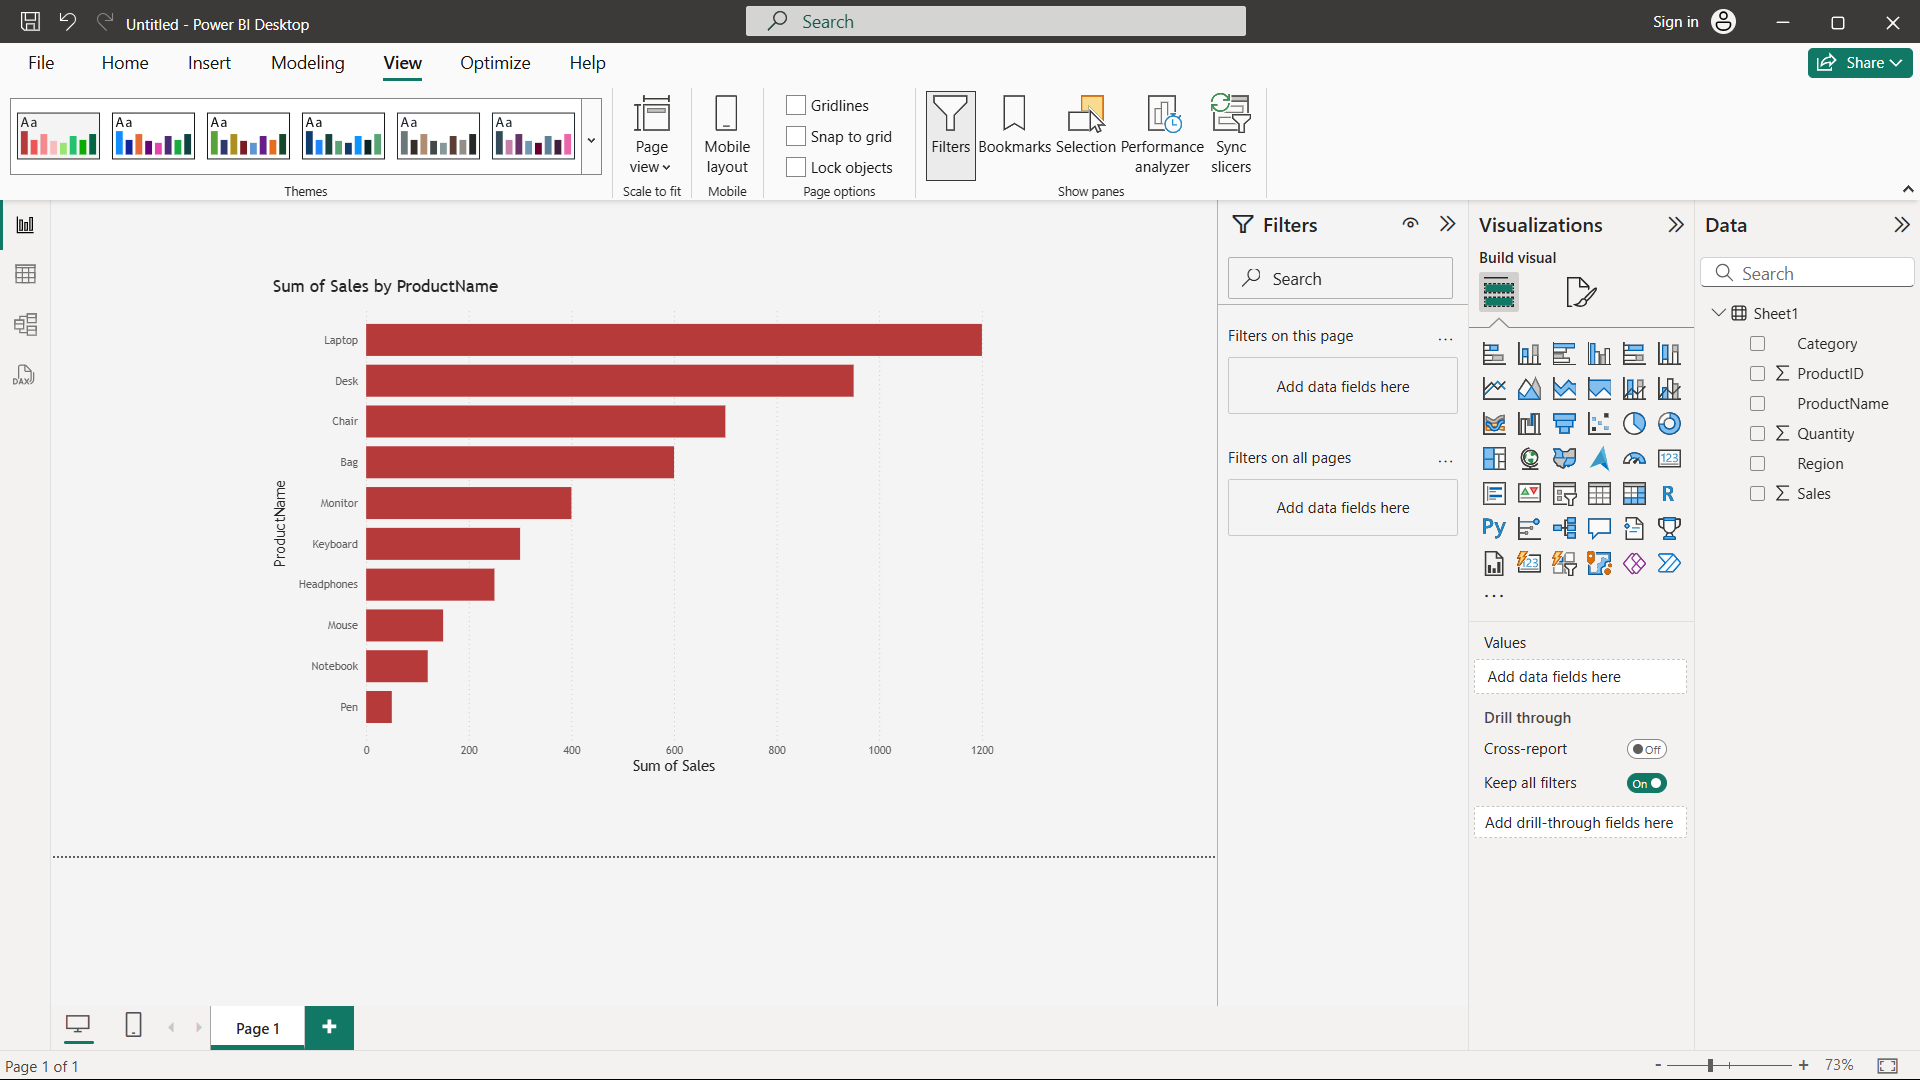

The dashboard page shown, as its layout file describes it:
{"tool":"powerbi","page":{"name":"Page 1","canvas":[1280,720],"ordinal":0},"visuals":[{"type":"pieChart","fields":{"Category":["Sheet1.ProductName"],"Y":["Sum(Sheet1.Sales)"]},"box":[31.6,31.6,607.9,458.3],"z":1},{"type":"clusteredBarChart","fields":{"Category":["Sheet1.ProductName"],"Y":["Sum(Sheet1.Sales)"]},"box":[639.5,288.2,613.4,410.3],"z":2}]}

Visuals, with their boxes on the page's 1280x720 design canvas (x1, y1, x2, y2). These are canvas units, not pixel positions in the 1920x1080 screenshot, which may show the page scaled, cropped or inside an application window:
pieChart - Sheet1.ProductName x Sum(Sheet1.Sales): x1=32 y1=32 x2=640 y2=490
clusteredBarChart - Sheet1.ProductName x Sum(Sheet1.Sales): x1=640 y1=288 x2=1253 y2=698
